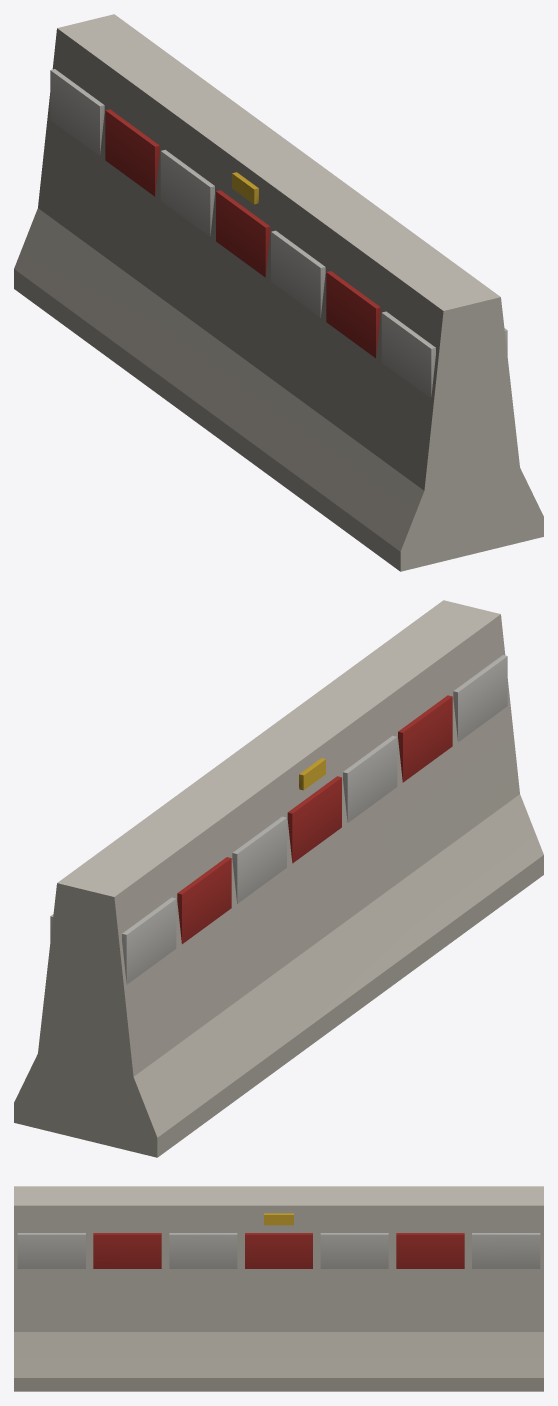
The model's file is y_barrier.glb.
3 renders of one model, top to bottom at view 1: azimuth 30°, elevation 25°; view 2: azimuth 150°, elevation 25°; view 3: azimuth 270°, elevation 25°, orthographic. The views are drawn at different scales.
Parts seen in each view (by area): view 1: y_barrier; view 2: y_barrier; view 3: y_barrier.
Boxes of the visible parts, x1,y1,x2,y2 form: y_barrier: (14,14,543,571); y_barrier: (14,600,543,1157); y_barrier: (14,1186,543,1391).
Size of the model in its own units: 0.6 by 1 by 2.8.
